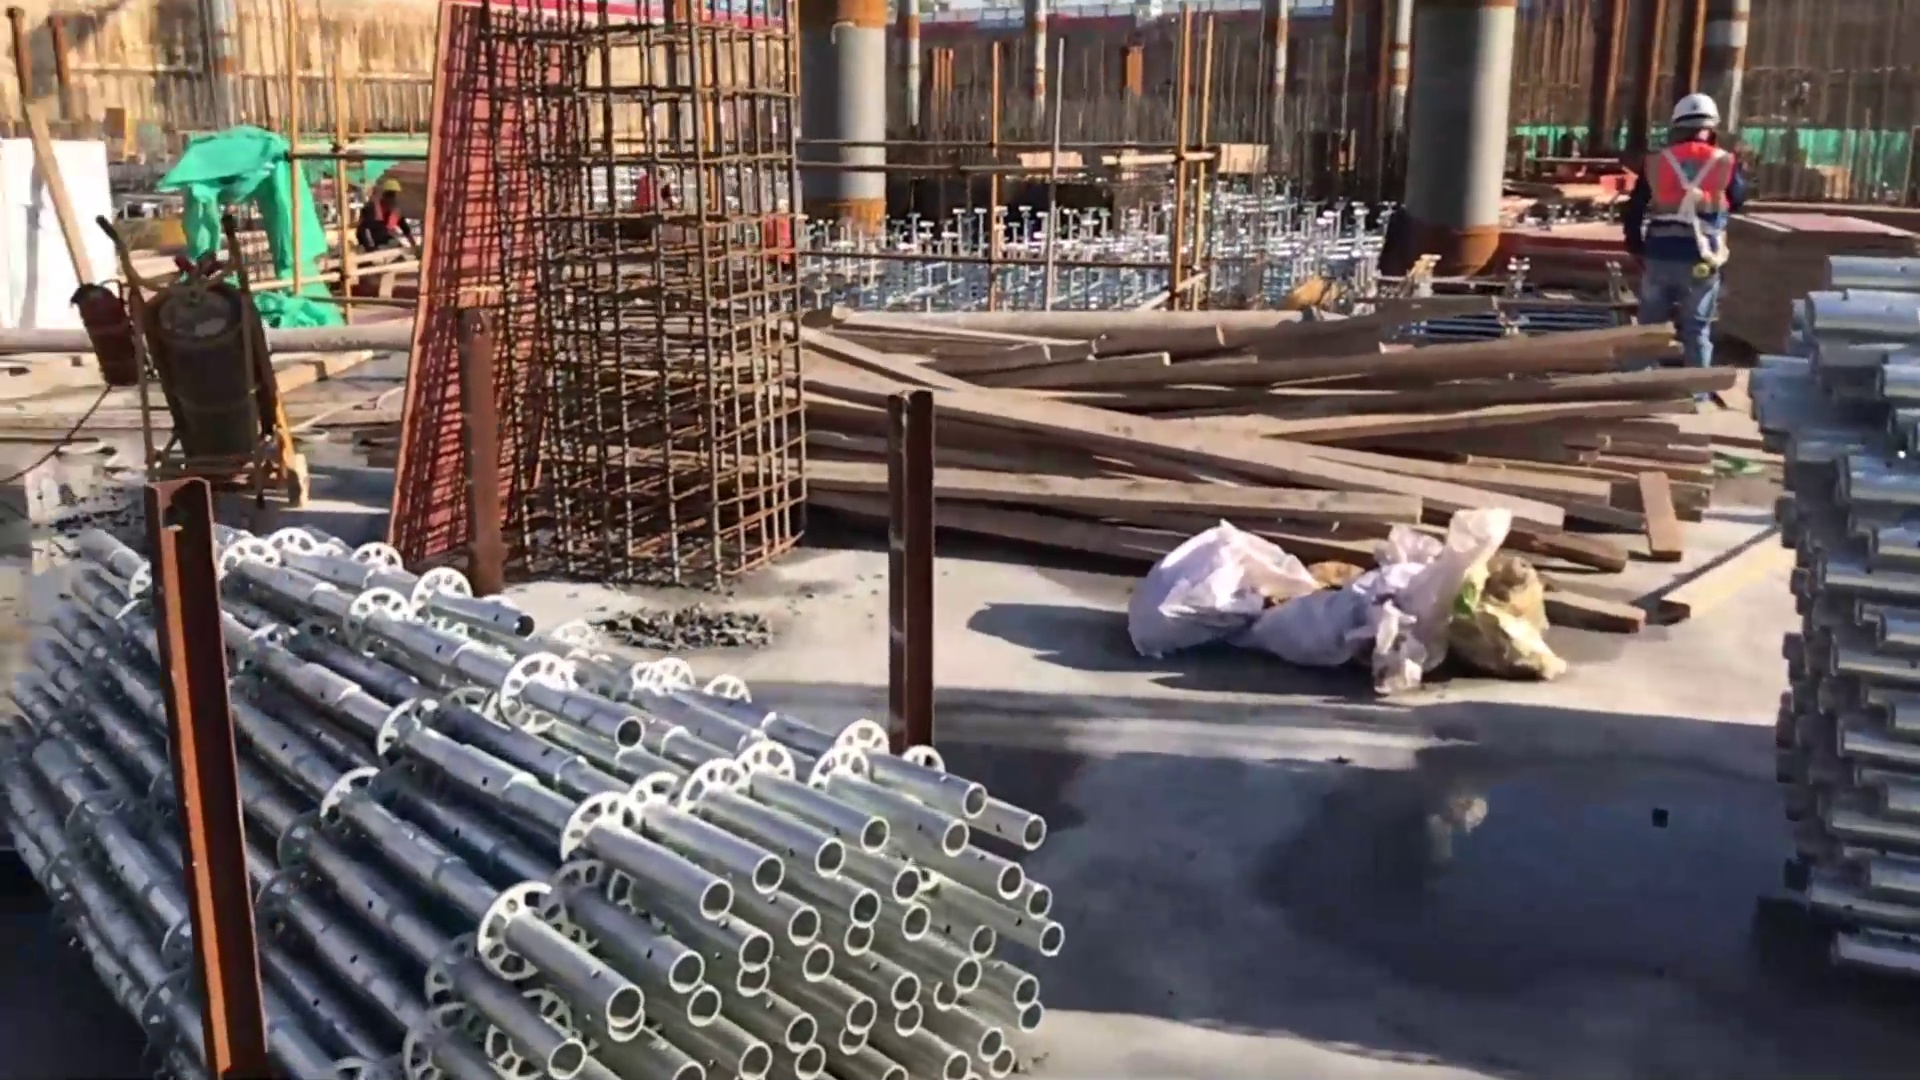helmet: (1669, 94, 1721, 126)
person: (1625, 93, 1747, 357), (344, 174, 420, 250)
scaffold: (2, 524, 1069, 1080), (1754, 253, 1920, 982)
vest: (1642, 142, 1740, 266)
wood: (802, 296, 1724, 615)
